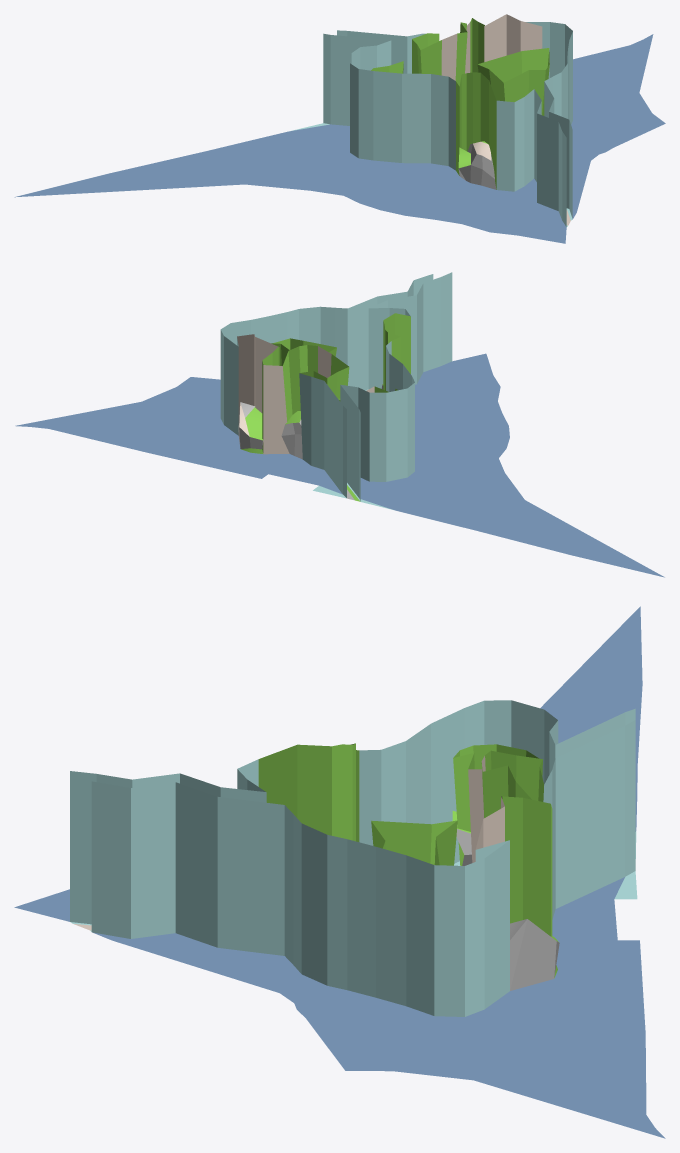
The picture shows the model from 3 angles, top to bottom: view 1: azimuth 30°, elevation 25°; view 2: azimuth 150°, elevation 25°; view 3: azimuth 270°, elevation 25°; orthographic projection. The views are drawn at different scales.
Visible parts, largest first — view 1: simple, level3; view 2: level3, simple; view 3: simple, level3.
Part boxes in pixels (x1=…): simple: x1=323, y1=14, x2=572, y2=226; level3: x1=14, y1=34, x2=665, y2=243; level3: x1=15, y1=353, x2=664, y2=577; simple: x1=220, y1=272, x2=452, y2=500; simple: x1=70, y1=700, x2=635, y2=1016; level3: x1=14, y1=606, x2=665, y2=1138.
Size of the model in its own units: 530 by 82.17 by 274.
